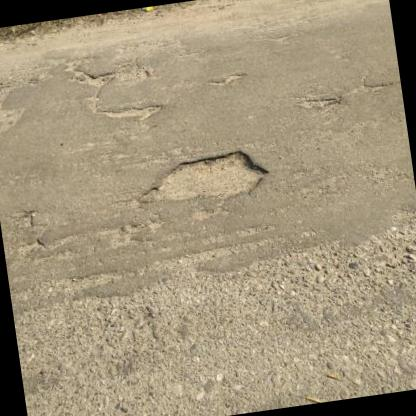pothole: (134, 144, 274, 210), (66, 62, 118, 92), (94, 100, 166, 120)
